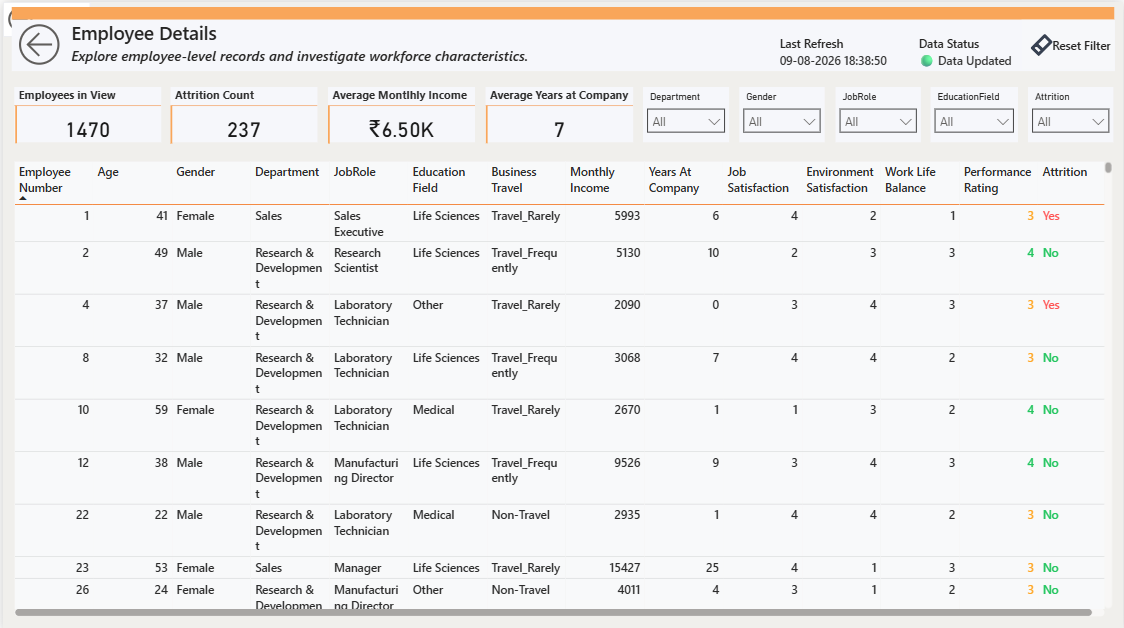

This screenshot's page, from the dashboard's own definition file:
{"tool":"powerbi","page":{"name":"Employee Details","canvas":[1280,720],"ordinal":4},"visuals":[{"type":"card","title":"Attrition Count","fields":{"Values":["Measures (2).Employees with Attrition"]},"box":[192,97.4,168,63.1],"z":0},{"type":"card","title":"Employees in View","fields":{"Values":["Measures (2).Filtered Employees"]},"box":[12.3,97.4,168,63.1],"z":1000},{"type":"tableEx","fields":{"Values":["Sum(Employees.EmployeeNumber)","Sum(Employees.Age)","Employees.Gender","Employees.Department","Employees.JobRole","Employees.EducationField","Employees.BusinessTravel","Sum(Employees.MonthlyIncome)","Sum(Employees.YearsAtCompany)","Sum(Employees.JobSatisfaction)","Employees.EnvironmentSatisfaction","Employees.WorkLifeBalance"]},"box":[9.6,179.8,1259.7,524.2],"z":2000},{"type":"actionButton","box":[0,0,100,40],"z":3000},{"type":"shape","box":[9.6,20.6,1261.1,59],"z":4000},{"type":"shape","box":[10,5.7,1260,14.3],"z":5000},{"type":"textbox","box":[72.9,15.7,731.4,61.4],"z":6000},{"type":"cardVisual","title":"Last Refresh","fields":{"Data":["Min(Last Refreshed.LastRefresh)","Measures (2).Data Status"]},"box":[868.3,16.7,350,80],"z":7000},{"type":"card","title":"Average Years at Company","fields":{"Values":["Measures (2).Average Years at Company"]},"box":[551.3,97.4,168.8,63.1],"z":8000},{"type":"card","title":"Average Montlhly Income","fields":{"Values":["Measures (2).Average Monthly Income"]},"box":[371.6,97.4,168,63],"z":9000},{"type":"actionButton","title":"Reset Filter","box":[1163.6,20.6,105.7,57.6],"z":10000},{"type":"slicer","fields":{"Values":["Employees.Department"]},"box":[731.7,97.4,98.8,63.1],"z":11000},{"type":"slicer","fields":{"Values":["Employees.JobRole"]},"box":[951.2,97.4,97.4,63.1],"z":12000},{"type":"slicer","fields":{"Values":["Employees.Gender"]},"box":[842.1,97.4,97.4,63.1],"z":13000},{"type":"slicer","fields":{"Values":["Employees.EducationField"]},"box":[1060.2,97.4,100,63.1],"z":14000},{"type":"slicer","fields":{"Values":["Employees.Attrition"]},"box":[1171.9,97.4,97.4,63.1],"z":15000},{"type":"shape","box":[8.6,118.6,12.9,42.9],"z":16000},{"type":"shape","box":[186,118,13.4,43.4],"z":17000},{"type":"shape","box":[366,118,13.4,43.4],"z":18000},{"type":"shape","box":[545.7,118.6,14.3,42.9],"z":19000},{"type":"actionButton","box":[11.4,18.6,61.4,60],"z":20000}]}

Visuals, with their boxes in screenshot pixels (x1, y1, x2, y2), scaled from the page's 1280x720 canvas onto the 1124x628 screenshot:
"Attrition Count" card: box=[169, 85, 316, 140]
"Employees in View" card: box=[11, 85, 158, 140]
tableEx - Sum(Employees.EmployeeNumber) x Sum(Employees.Age): box=[8, 157, 1115, 614]
actionButton: box=[0, 0, 88, 35]
shape: box=[8, 18, 1116, 69]
shape: box=[9, 5, 1115, 17]
textbox: box=[64, 14, 706, 67]
"Last Refresh" cardVisual: box=[762, 15, 1070, 84]
"Average Years at Company" card: box=[484, 85, 632, 140]
"Average Montlhly Income" card: box=[326, 85, 474, 140]
"Reset Filter" actionButton: box=[1022, 18, 1115, 68]
slicer - Employees.Department: box=[643, 85, 729, 140]
slicer - Employees.JobRole: box=[835, 85, 921, 140]
slicer - Employees.Gender: box=[739, 85, 825, 140]
slicer - Employees.EducationField: box=[931, 85, 1019, 140]
slicer - Employees.Attrition: box=[1029, 85, 1115, 140]
shape: box=[8, 103, 19, 141]
shape: box=[163, 103, 175, 141]
shape: box=[321, 103, 333, 141]
shape: box=[479, 103, 492, 141]
actionButton: box=[10, 16, 64, 69]
